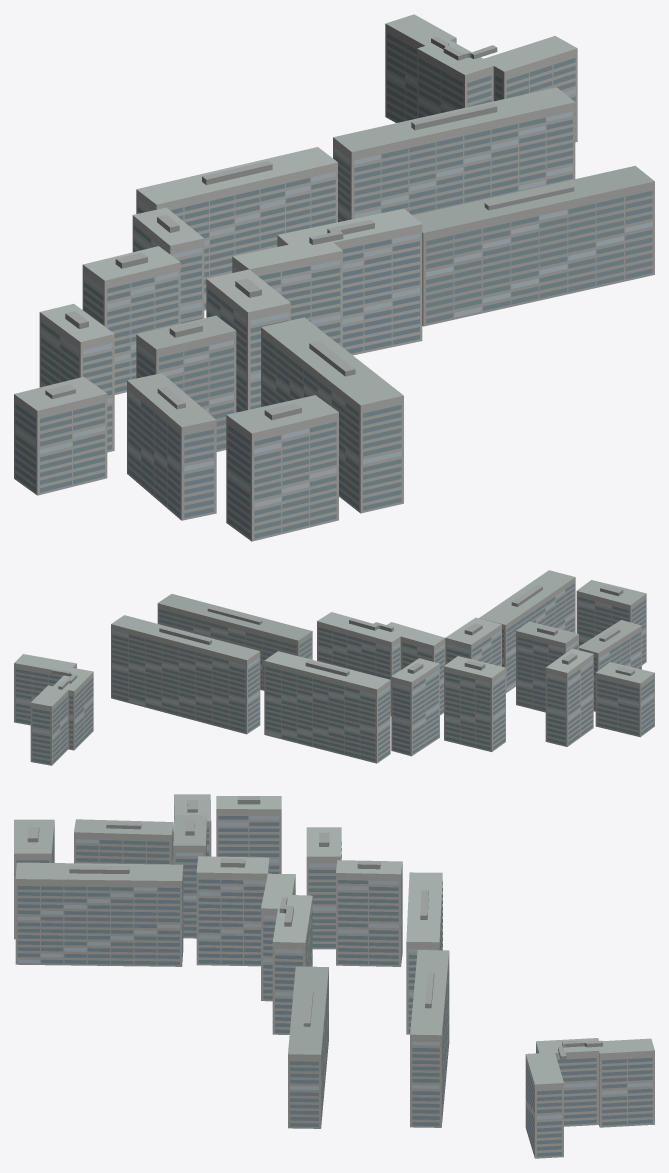
Rendered from apt-a12204102.glb.
3 renders of one model, top to bottom at view 1: azimuth 30°, elevation 25°; view 2: azimuth 150°, elevation 25°; view 3: azimuth 270°, elevation 25°, orthographic. The views are drawn at different scales.
Parts seen in each view (by area): view 1: apt-a12204102; view 2: apt-a12204102; view 3: apt-a12204102.
Part boxes in pixels (x1,y1,x2,y2): apt-a12204102: [14, 14, 654, 541]; apt-a12204102: [14, 570, 654, 765]; apt-a12204102: [14, 794, 654, 1158].
Size of the model in its own units: 263 by 40 by 239.
